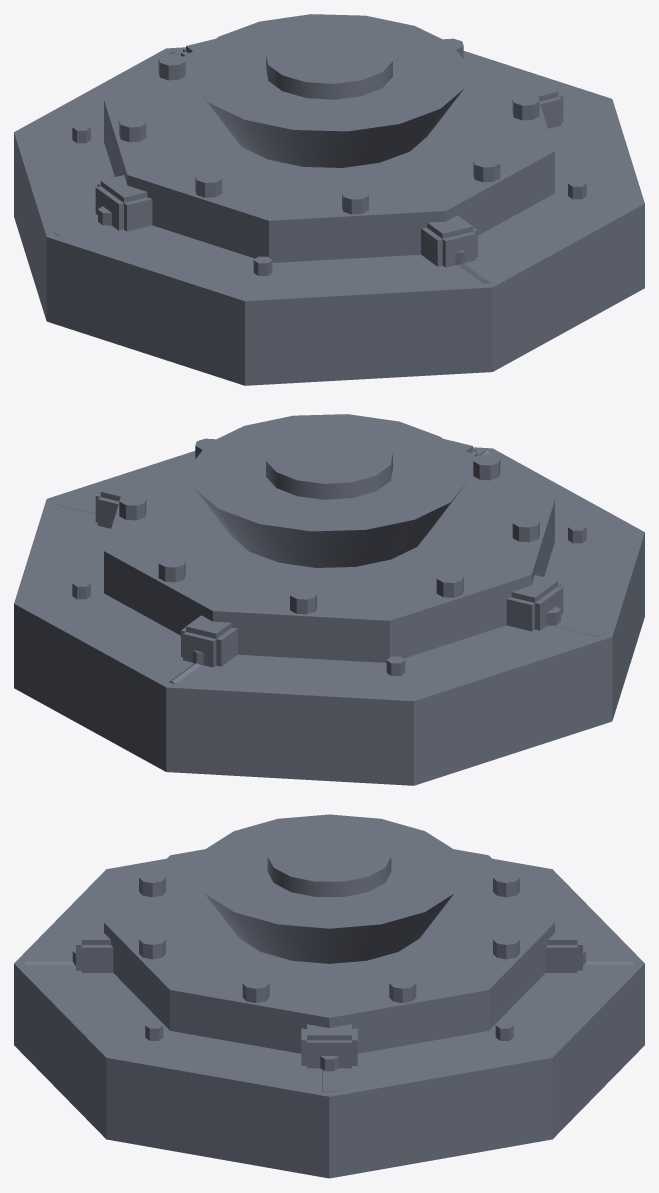
The model's file is repair_array_mount.glb.
3 renders of one model, top to bottom at view 1: azimuth 30°, elevation 25°; view 2: azimuth 150°, elevation 25°; view 3: azimuth 270°, elevation 25°, orthographic. The views are drawn at different scales.
Parts seen in each view (by area): view 1: repair_array_mount; view 2: repair_array_mount; view 3: repair_array_mount.
Boxes of the visible parts, x1,y1,x2,y2 form: repair_array_mount: (14,14,644,385); repair_array_mount: (14,414,644,785); repair_array_mount: (14,814,644,1178).
Bounding box in the file's own units: 0.56 × 0.185 × 0.56.
